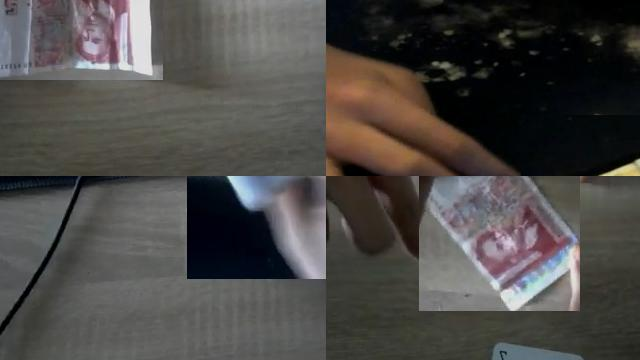5leva: (426, 176, 580, 311)
